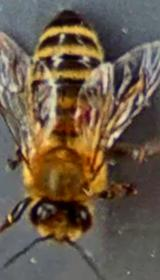varroa_mite: (66, 93, 96, 132)
